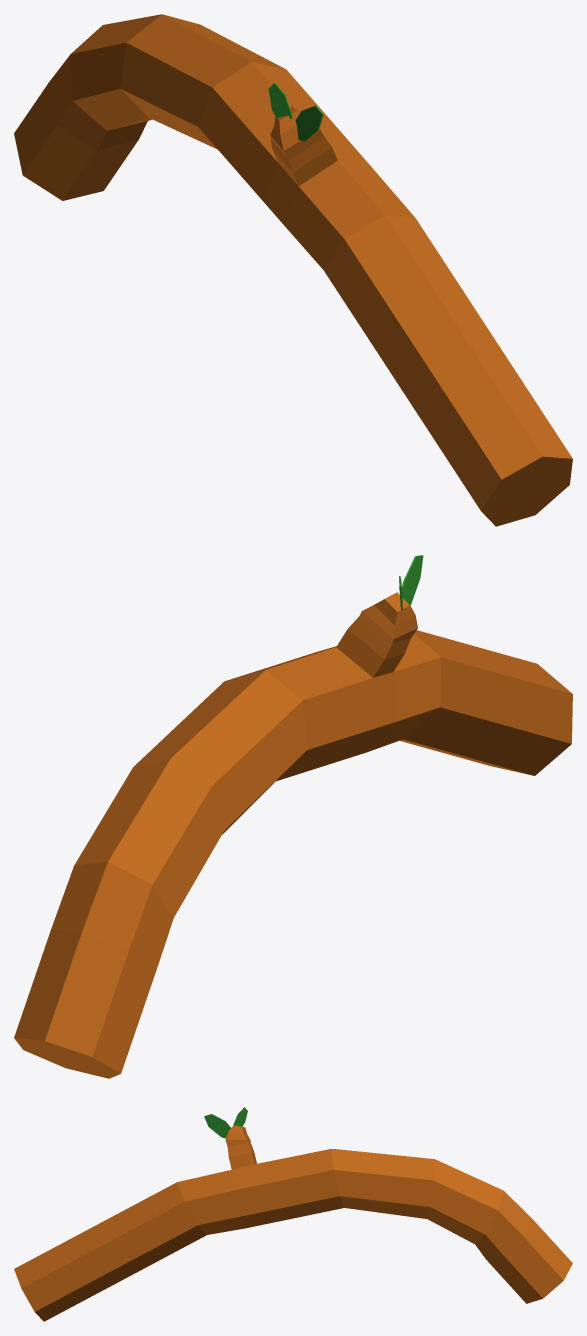
File: Raiz1.fbx
3 views of the same model, one above another, from view 1: azimuth 30°, elevation 25°; view 2: azimuth 150°, elevation 25°; view 3: azimuth 270°, elevation 25° (orthographic). The views are drawn at different scales.
Parts seen in each view (by area): view 1: Cylinder, Cylinder.001; view 2: Cylinder; view 3: Cylinder, Cylinder.001.
Part boxes in pixels (x1=…): Cylinder: x1=14, y1=14, x2=572, y2=526; Cylinder.001: x1=295, y1=105, x2=323, y2=140; Cylinder: x1=14, y1=592, x2=572, y2=1078; Cylinder: x1=14, y1=1125, x2=572, y2=1321; Cylinder.001: x1=204, y1=1114, x2=230, y2=1138.
Bounding box in the file's own units: 49.28 × 130 × 347.
